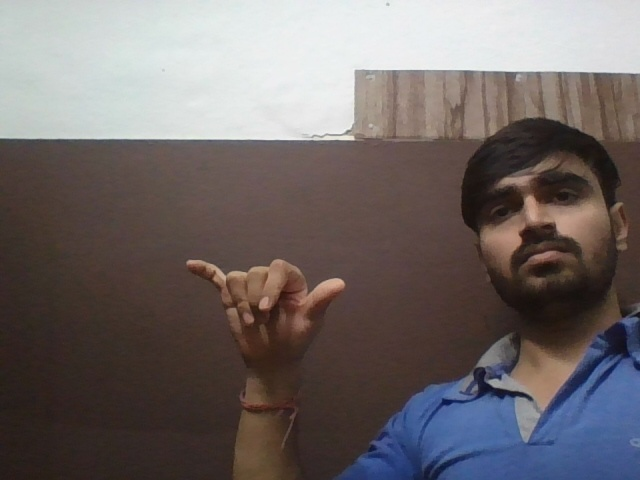Y: (196, 250, 347, 364)
